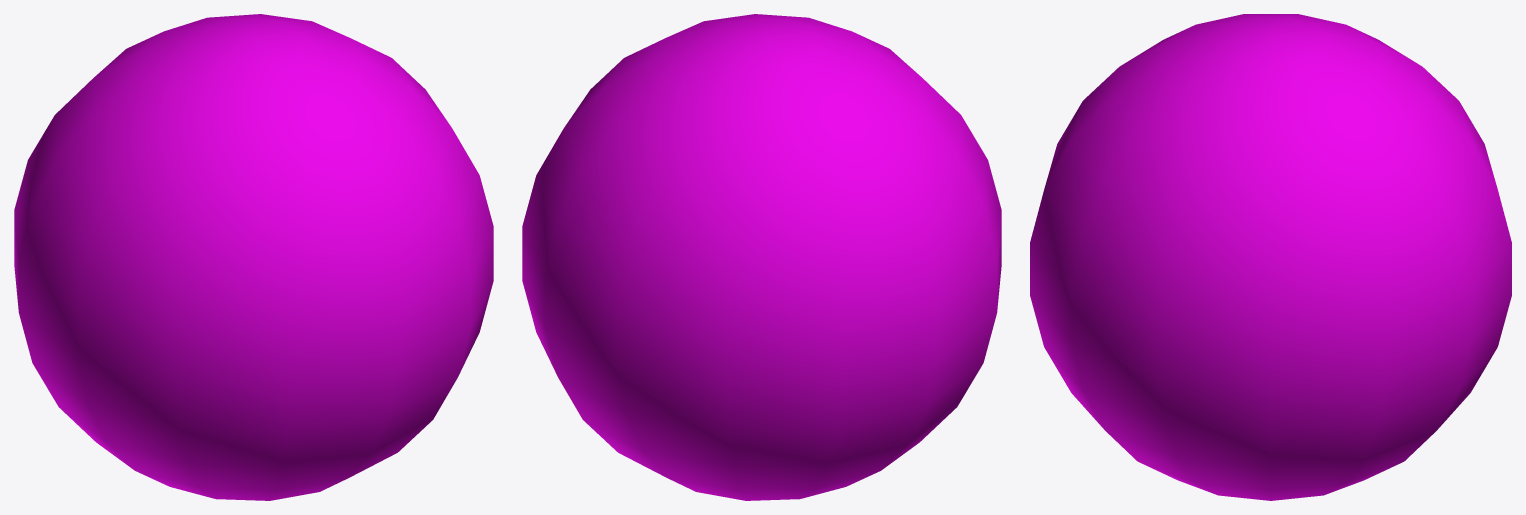
Rendered from bala catapulta-f.fbx.
The picture shows the model from 3 angles, left to right: view 1: azimuth 30°, elevation 25°; view 2: azimuth 150°, elevation 25°; view 3: azimuth 270°, elevation 25°; orthographic projection.
Parts seen in each view (by area): view 1: todo:catapultpSphere15; view 2: todo:catapultpSphere15; view 3: todo:catapultpSphere15.
Part boxes in pixels (x1=…): todo:catapultpSphere15: x1=14, y1=14, x2=493, y2=500; todo:catapultpSphere15: x1=522, y1=14, x2=1001, y2=500; todo:catapultpSphere15: x1=1030, y1=14, x2=1511, y2=500.
Size of the model in its own units: 3.19 by 3.26 by 3.21.
